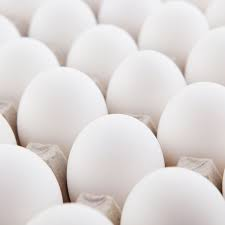eggs: (142, 73, 225, 167), (102, 36, 182, 126), (2, 135, 79, 225), (22, 70, 96, 153), (71, 109, 143, 191), (64, 21, 143, 88), (134, 173, 222, 225), (4, 29, 60, 96)
